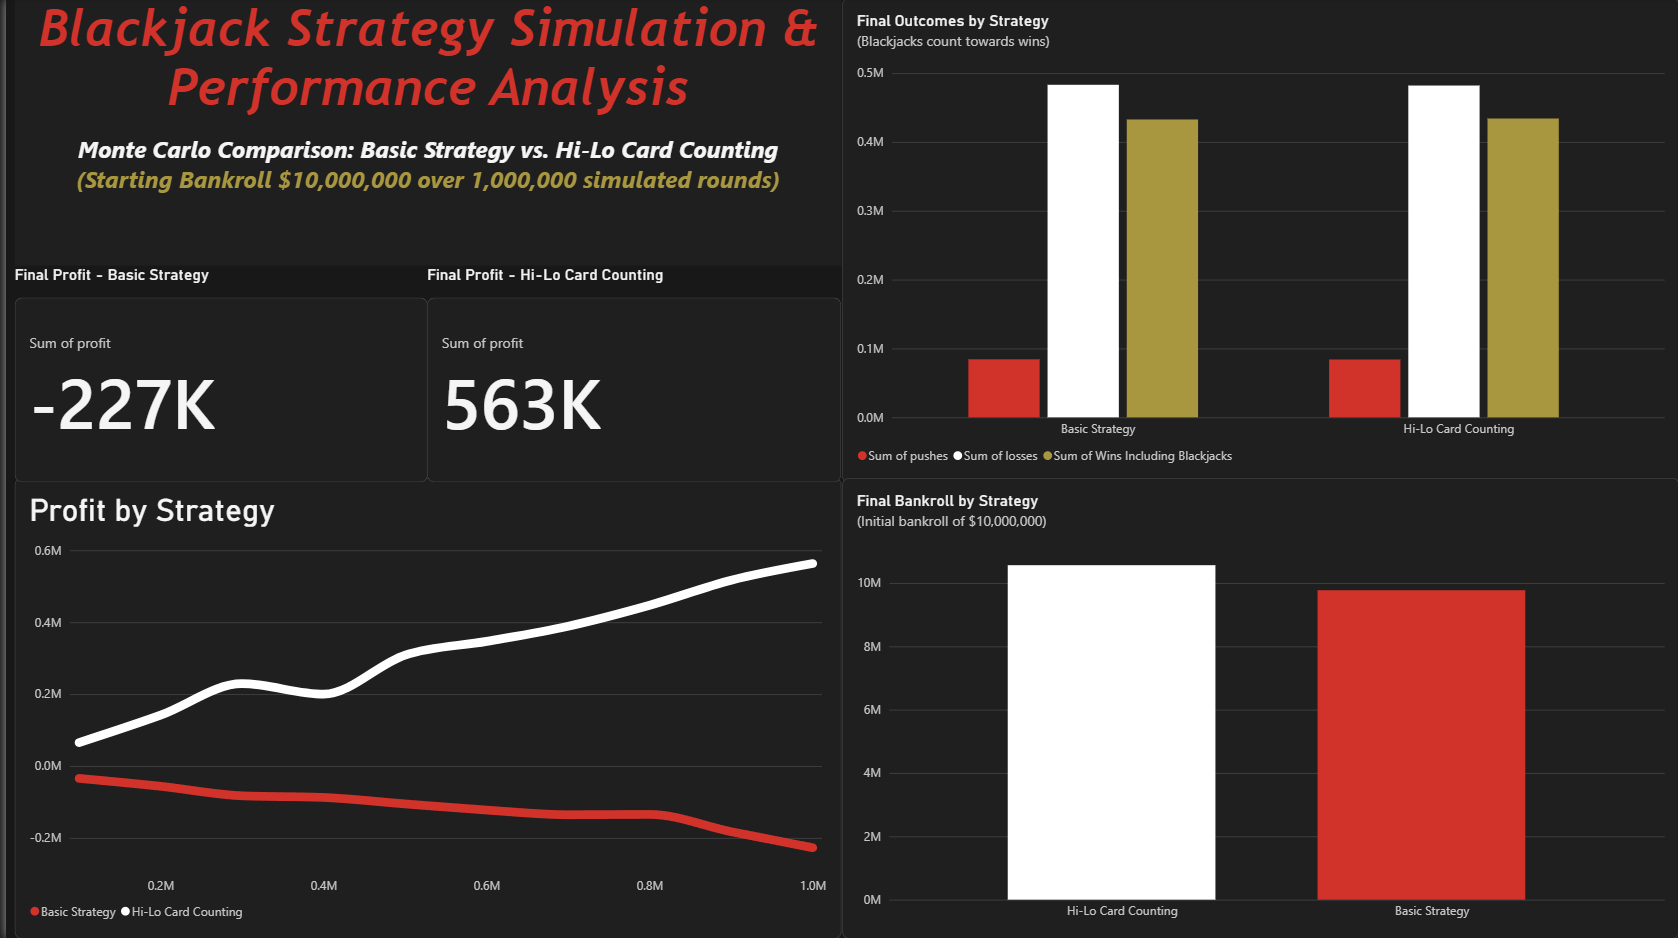

The page's visual inventory and layout, read from the dashboard file:
{"tool":"powerbi","page":{"name":"Page 1","canvas":[1920,1080],"ordinal":0},"visuals":[{"type":"lineChart","title":"Profit by Strategy","fields":{"Category":["SimulationCheckpoints.checkpoint_round"],"Series":["SimulationCheckpoints.strategy"],"Y":["Sum(SimulationCheckpoints.profit)"]},"box":[10.2,551.4,949.1,529.2],"z":0},{"type":"cardVisual","title":"Final Profit - Basic Strategy","fields":{"Data":["Sum(SimulationCheckpoints.profit)"]},"box":[10.4,307.4,474.5,249.2],"z":1000},{"type":"cardVisual","title":"Final Profit - Hi-Lo Card Counting","fields":{"Data":["Sum(SimulationCheckpoints.profit)"]},"box":[484.2,307.4,475.2,249.5],"z":2000},{"type":"clusteredColumnChart","title":"Final Outcomes by Strategy","fields":{"Category":["SimulationCheckpoints.strategy"],"Y":["Sum(SimulationCheckpoints.pushes)","Sum(SimulationCheckpoints.losses)","Sum(SimulationCheckpoints.Wins Including Blackjacks)"]},"box":[959.3,0,961,556.5],"z":3000},{"type":"clusteredColumnChart","title":"Final Bankroll by Strategy","fields":{"Category":["SimulationCheckpoints.strategy"],"Y":["Sum(SimulationCheckpoints.money)"]},"box":[959.3,551.4,961,529.2],"z":4000},{"type":"textbox","box":[10.4,0,949,307.4],"z":4001}]}

Visuals, with their boxes in screenshot pixels (x1, y1, x2, y2), scaled from the page's 1920x1080 canvas onto the 1678x938 screenshot:
"Profit by Strategy" lineChart: bbox(9, 479, 838, 937)
"Final Profit - Basic Strategy" cardVisual: bbox(9, 267, 424, 483)
"Final Profit - Hi-Lo Card Counting" cardVisual: bbox(423, 267, 838, 484)
"Final Outcomes by Strategy" clusteredColumnChart: bbox(838, 0, 1677, 483)
"Final Bankroll by Strategy" clusteredColumnChart: bbox(838, 479, 1677, 937)
textbox: bbox(9, 0, 838, 267)
